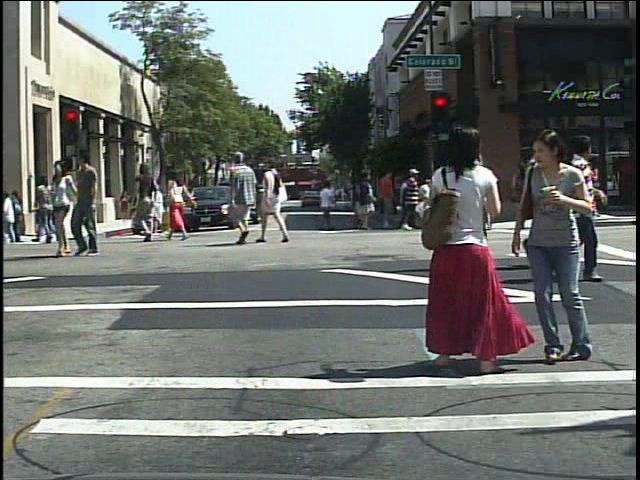person: (409, 123, 511, 378), (518, 121, 603, 367), (441, 129, 504, 276), (514, 132, 574, 277), (564, 128, 614, 282), (456, 140, 503, 247), (72, 148, 107, 260), (45, 159, 83, 260), (222, 149, 261, 247), (260, 151, 289, 247), (166, 166, 197, 241), (134, 164, 161, 242), (72, 169, 98, 246), (398, 166, 426, 234), (482, 164, 509, 233), (35, 174, 57, 246)
